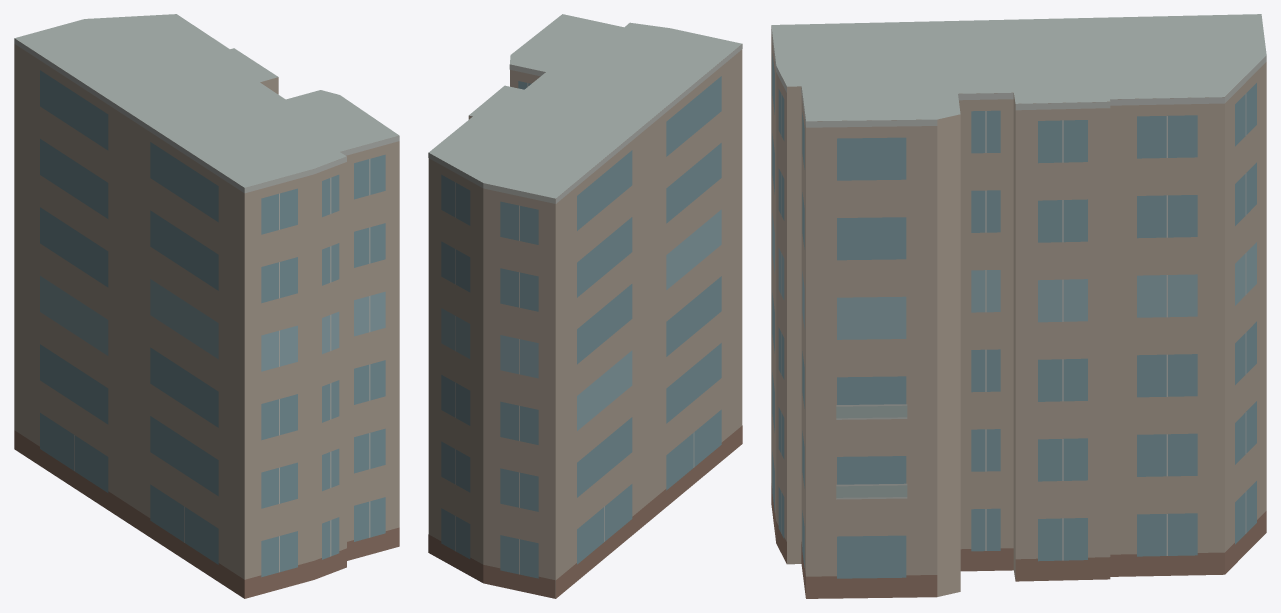
File: survey-upis-32573452.glb
3 views of the same model, side by side, from view 1: azimuth 30°, elevation 25°; view 2: azimuth 150°, elevation 25°; view 3: azimuth 270°, elevation 25° (orthographic). The views are drawn at different scales.
Parts seen in each view (by area): view 1: survey-upis-32573452.tmp; view 2: survey-upis-32573452.tmp; view 3: survey-upis-32573452.tmp.
Boxes of the visible parts, <box> form: survey-upis-32573452.tmp: <box>14,14,399,598</box>; survey-upis-32573452.tmp: <box>428,14,742,598</box>; survey-upis-32573452.tmp: <box>771,14,1266,598</box>.
Bounding box in the file's own units: 8.73 × 18.1 × 17.02.
